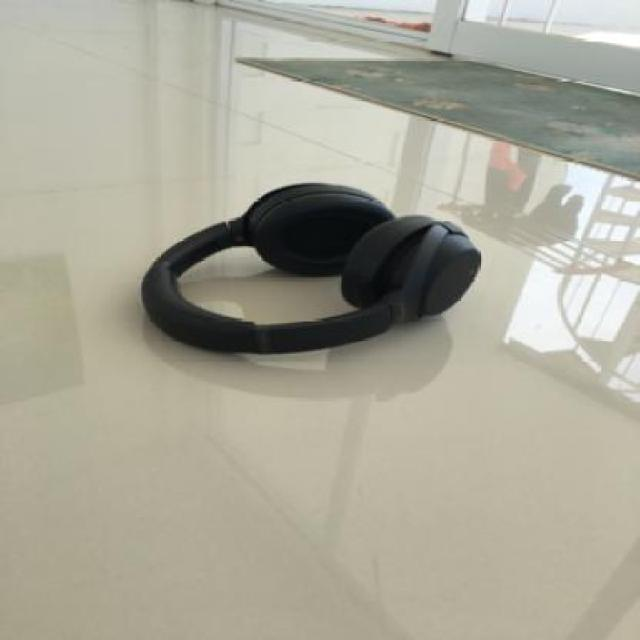earphone: (75, 137, 537, 448)
